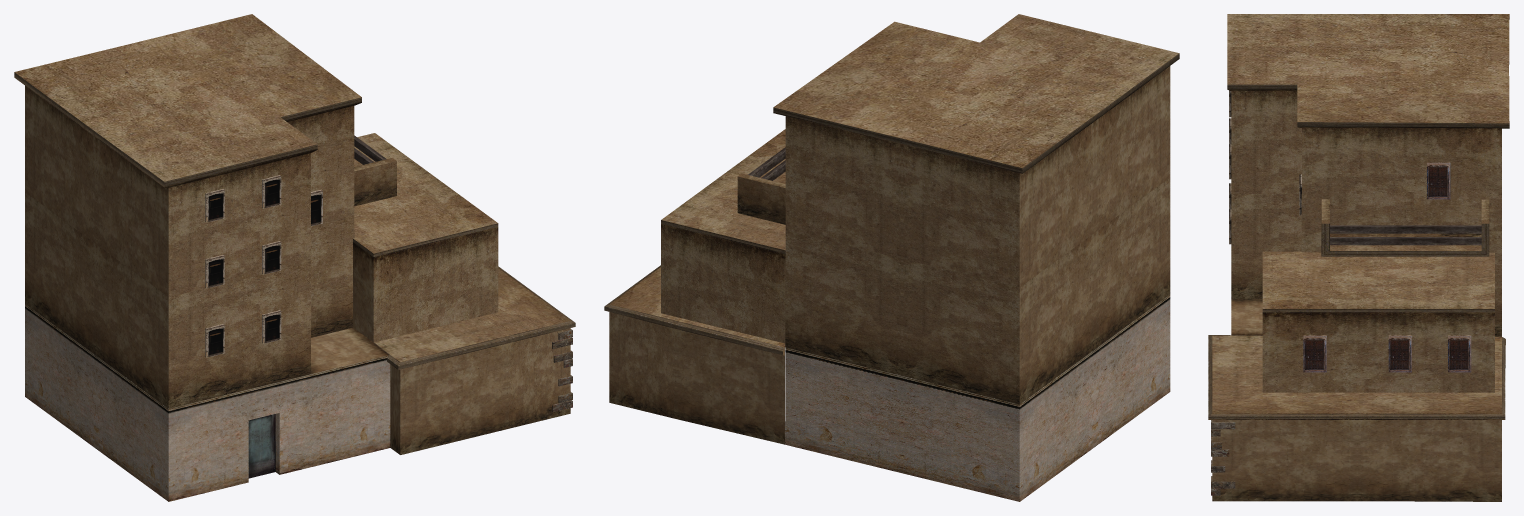
Rendered from BuildingH.fbx.
3 renders of one model, left to right at view 1: azimuth 30°, elevation 25°; view 2: azimuth 150°, elevation 25°; view 3: azimuth 270°, elevation 25°, orthographic. The views are drawn at different scales.
Parts seen in each view (by area): view 1: BuildingH; view 2: BuildingH; view 3: BuildingH.
Boxes of the visible parts, x1,y1,x2,y2 form: BuildingH: (14, 14, 575, 501); BuildingH: (604, 14, 1179, 501); BuildingH: (1208, 14, 1509, 501).
Bounding box in the file's own units: 1789 × 1379 × 1234.
